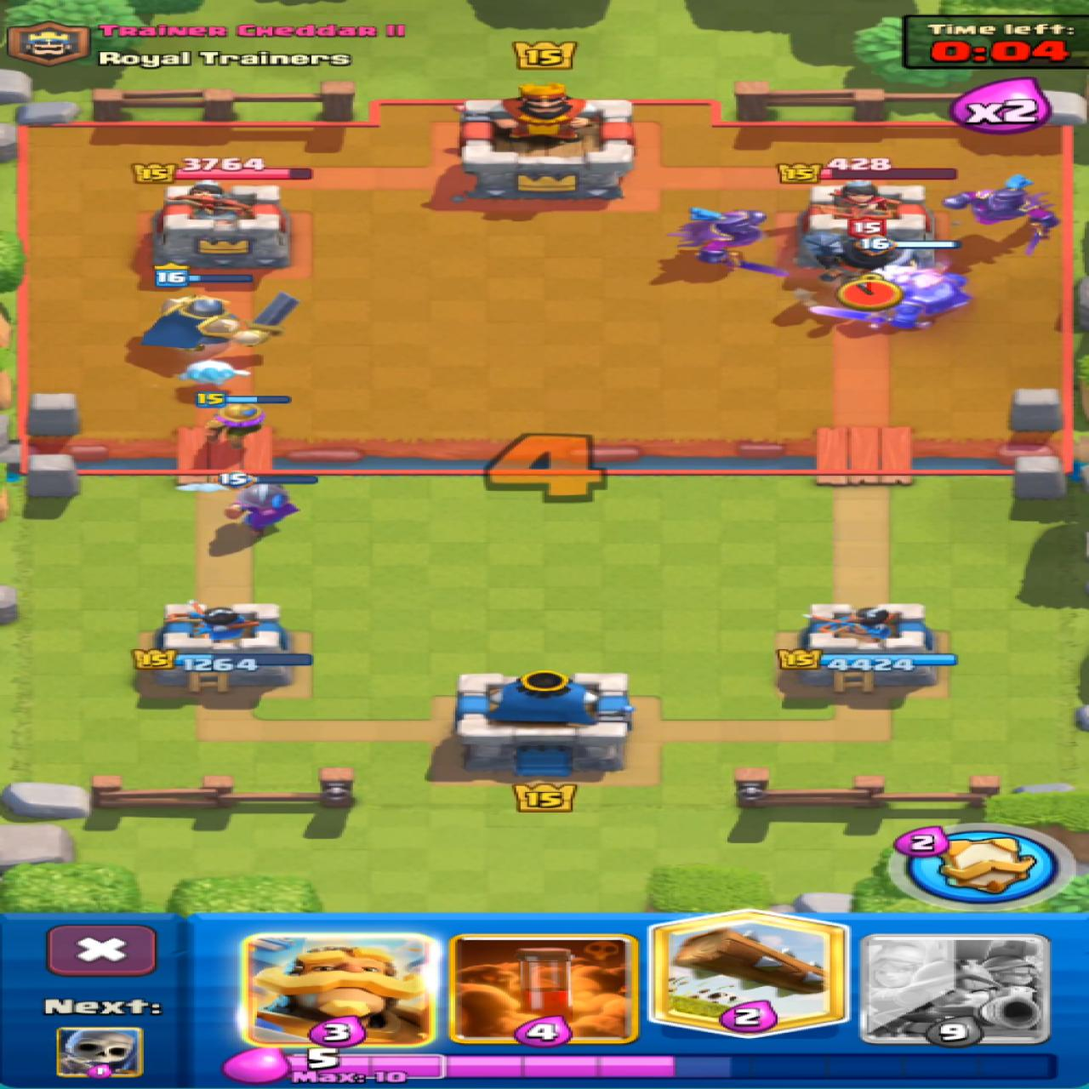Enemy-DarkPrince-Shield: (804, 217, 897, 281)
Enemy-KingTower: (460, 84, 634, 198)
Enemy-PrincessTower: (152, 180, 290, 267), (799, 179, 934, 241)
